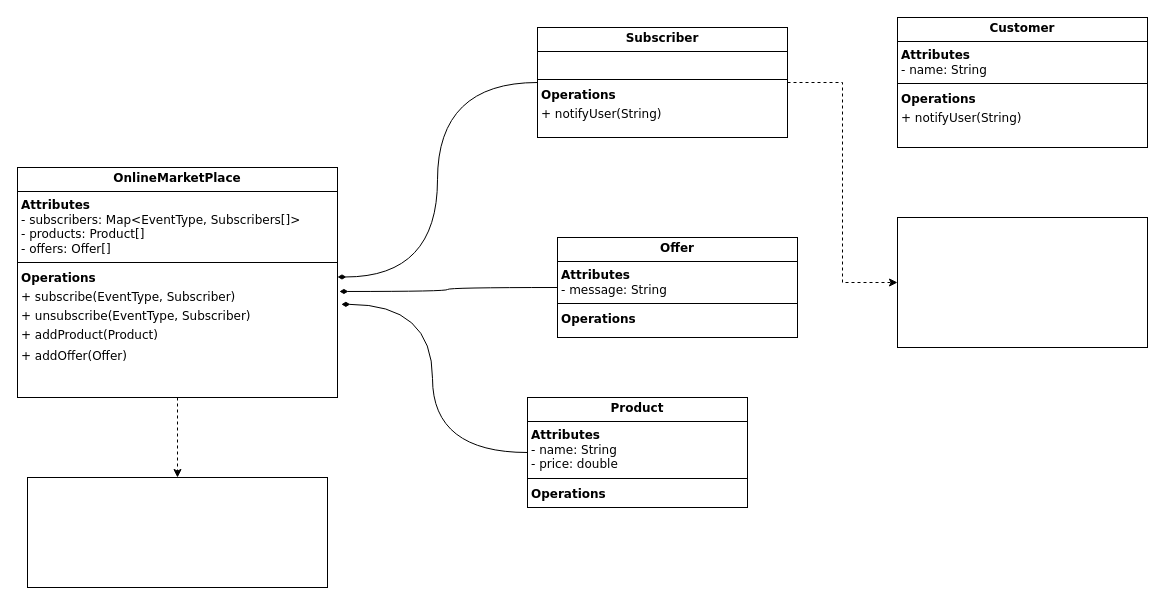
This 1165x605 diagram has some shape labels left out. Here are the shapes that lost their labels. From the top down, the centre of each, then its label:
At (x=1022, y=282): "JobFinder Attributes - name: String Operations + notifyUser(String)".
At (x=177, y=532): "EventType NEW_PRODUCT, NEW_OFFER OPEN_POISITIONS".
